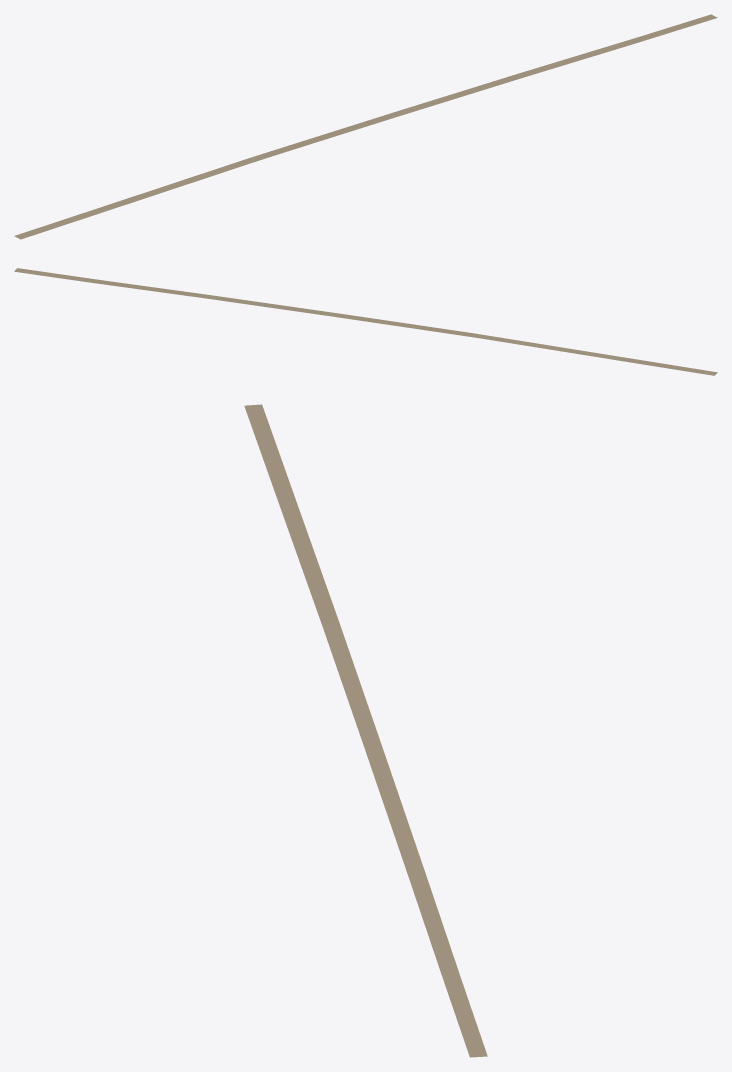
Rendered from farm_35_30_track.glb.
3 views of the same model, one above another, from view 1: azimuth 30°, elevation 25°; view 2: azimuth 150°, elevation 25°; view 3: azimuth 270°, elevation 25° (orthographic). The views are drawn at different scales.
Visible parts, largest first — view 1: geometry_0; view 2: geometry_0; view 3: geometry_0.
Boxes of the visible parts, box(x1,y1,x2,y2) form: geometry_0: box(14, 14, 717, 239); geometry_0: box(14, 268, 717, 375); geometry_0: box(244, 404, 487, 1057).
Bounding box in the file's own units: 270 × 4.65 × 44.12.
